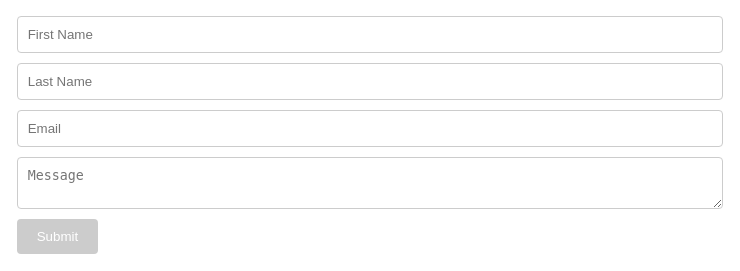
it: Form Component › submit button is enabled when form is valid
In the field with placeholder "First Name": (370, 34) top-left (17, 16), bottom-right (723, 53), type "First"
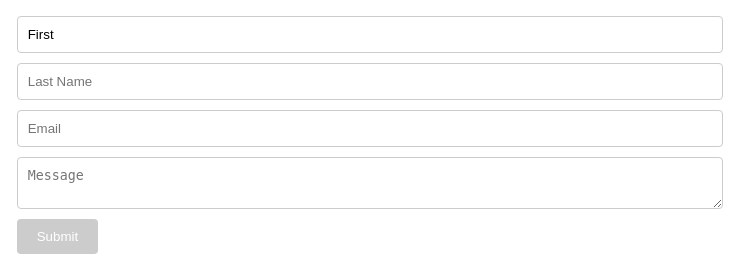
In the field with placeholder "Last Name": (370, 82) top-left (17, 63), bottom-right (723, 100), type "Last"
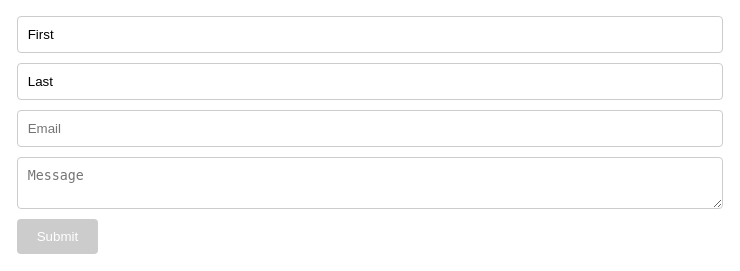
In the field with placeholder "Email": (370, 128) top-left (17, 110), bottom-right (723, 147), type "test@test.com"
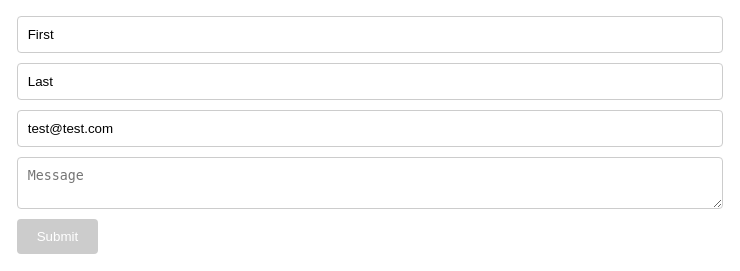
In the text box with placeholder "Message": (370, 183) top-left (17, 157), bottom-right (723, 209), type "This is a valid message."
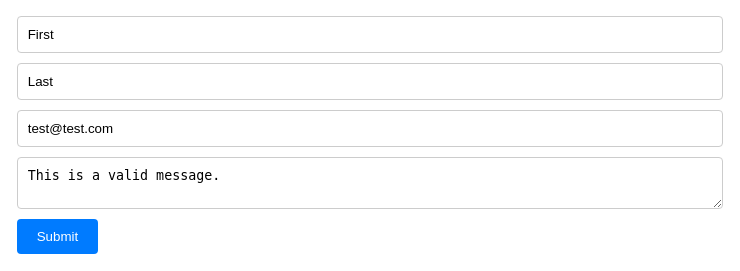
expect the button is enabled: met, box top-left (17, 219), bottom-right (98, 254)
